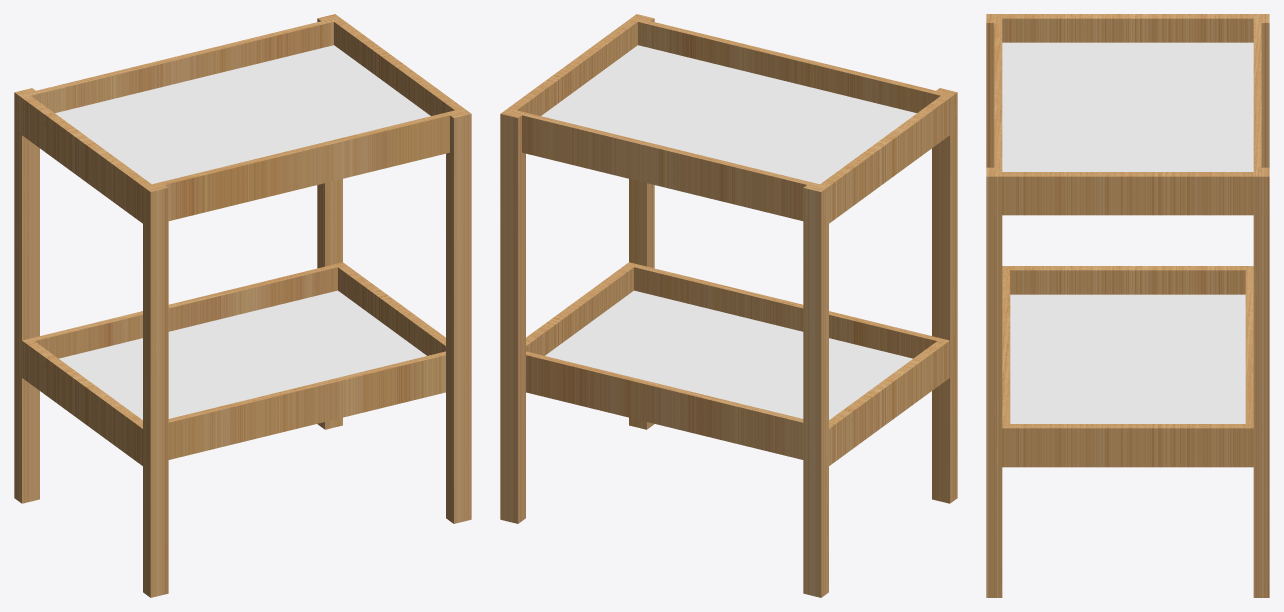
The model's file is SNIGLAR_Changing_Table.obj.
The picture shows the model from 3 angles, left to right: view 1: azimuth 30°, elevation 25°; view 2: azimuth 150°, elevation 25°; view 3: azimuth 270°, elevation 25°; orthographic projection. The views are drawn at different scales.
Parts seen in each view (by area): view 1: Revit_008539_01, Revit_038838_17, Revit_038838_18; view 2: Revit_008539_01, Revit_038838_17, Revit_038838_18; view 3: Revit_008539_01, Revit_038838_17, Revit_038838_18.
Boxes of the visible parts, x1,y1,x2,y2 form: Revit_008539_01: (14, 14, 471, 597); Revit_038838_17: (55, 45, 430, 184); Revit_038838_18: (59, 290, 426, 419); Revit_008539_01: (500, 14, 957, 597); Revit_038838_17: (541, 45, 916, 184); Revit_038838_18: (545, 290, 912, 419); Revit_008539_01: (986, 14, 1269, 597); Revit_038838_17: (1002, 42, 1253, 171); Revit_038838_18: (1010, 294, 1245, 423).
Size of the model in its own units: 720 by 870 by 530.
